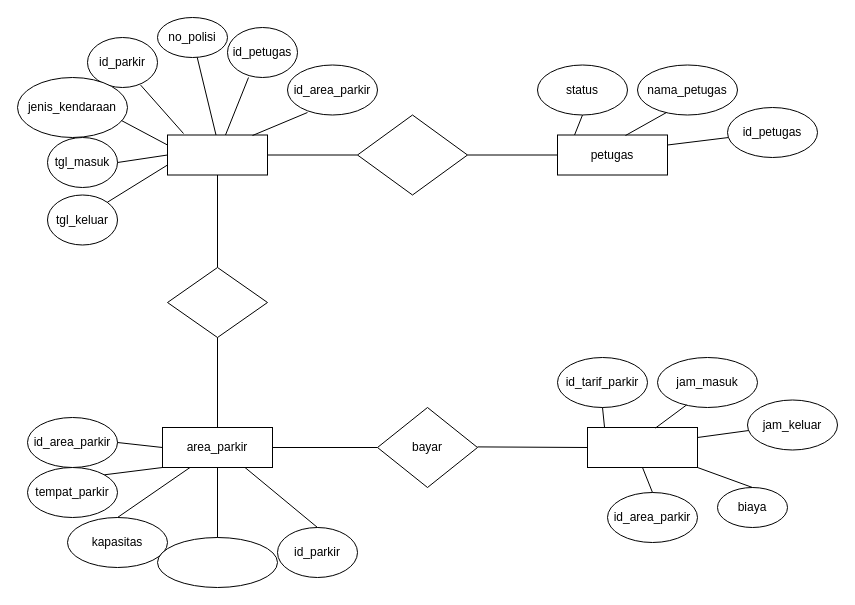
This 855x605 diagram has some shape labels left out. The shapes that lost their labels are listed below. From the top down, each one's centre as x and y in pixels, then its label:
At [217,154]: "parkir".
At [412,154]: "masuk".
At [217,302]: "memarkir".
At [642,447]: "tarif_parkir".
At [217,562]: "status_area_parkir".
